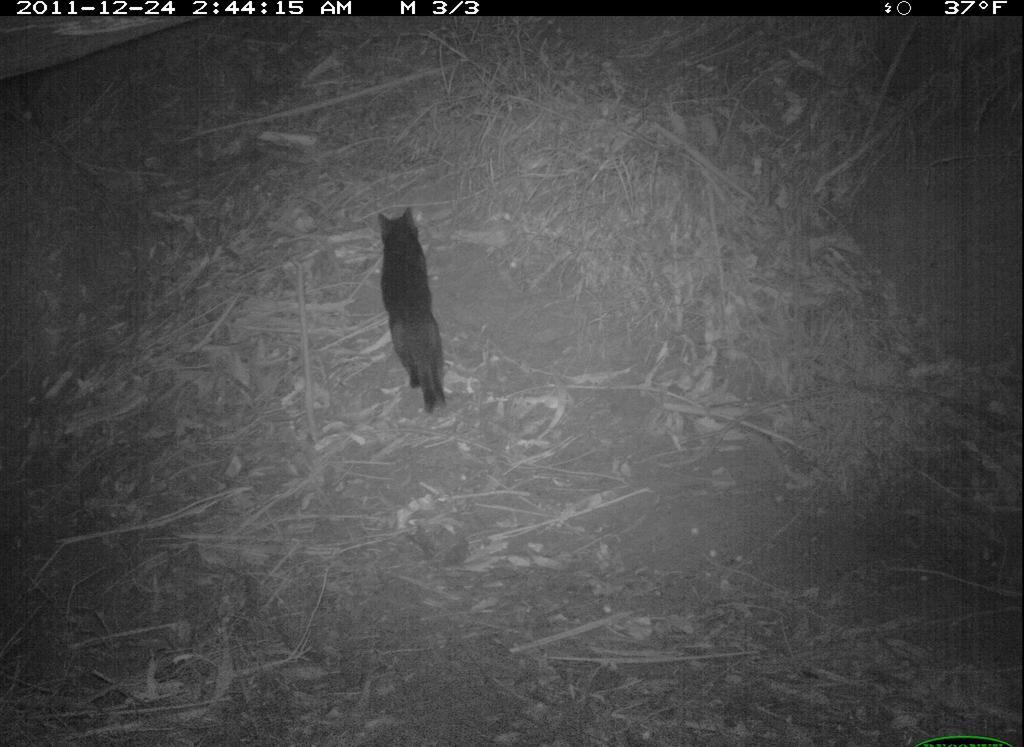cat: (374, 201, 457, 429)
